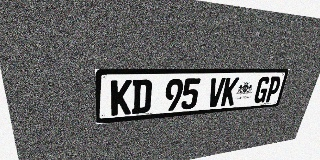5: (181, 78, 201, 110)
9: (164, 78, 184, 111)
D: (131, 79, 152, 114)
G: (253, 77, 271, 103)
K: (111, 80, 132, 116), (220, 77, 240, 106)
P: (264, 76, 282, 102)
V: (206, 78, 226, 107)
